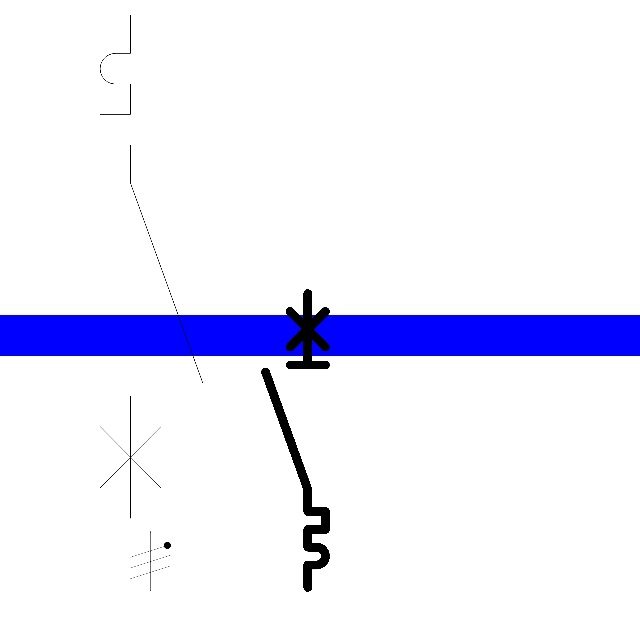interruptor_termomagnetico: (87, 2, 216, 531), (258, 286, 333, 595)
